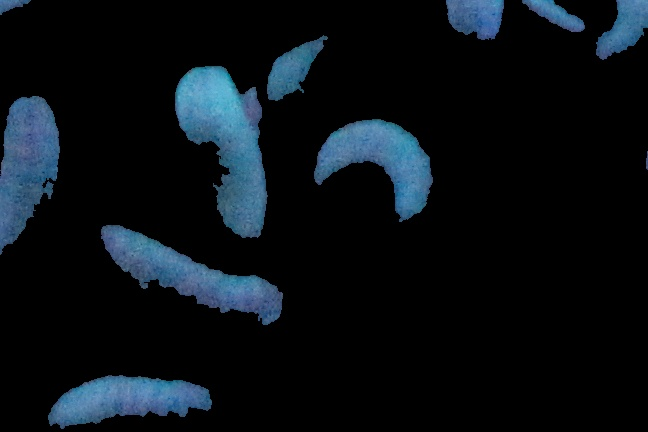larvae: (98, 225, 282, 327), (175, 62, 270, 251), (314, 112, 437, 232), (1, 90, 66, 268), (40, 372, 215, 427)
